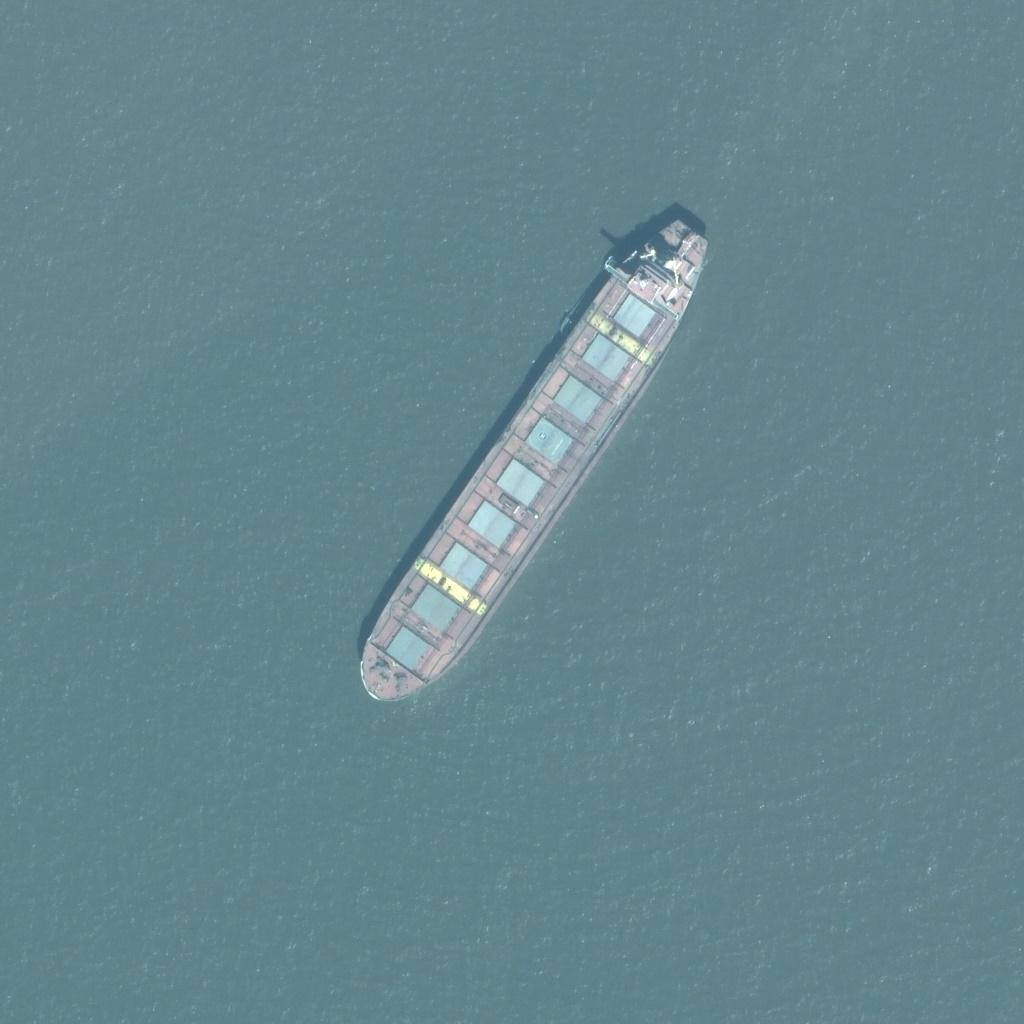ship: (357, 216, 710, 706)
